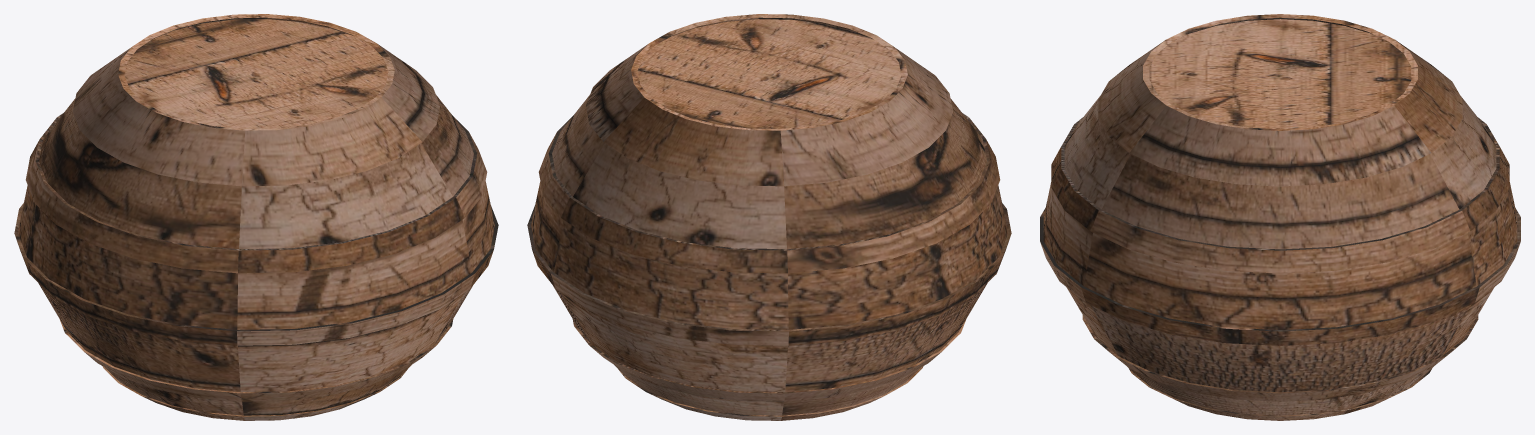
3 renders of one model, left to right at view 1: azimuth 30°, elevation 25°; view 2: azimuth 150°, elevation 25°; view 3: azimuth 270°, elevation 25°, orthographic.
Visible parts, largest first — view 1: pCylinder1; view 2: pCylinder1; view 3: pCylinder1.
Boxes of the visible parts, <box> form: pCylinder1: <box>14,14,498,420</box>; pCylinder1: <box>527,14,1011,420</box>; pCylinder1: <box>1040,14,1520,420</box>.
Size of the model in its own units: 7.1 by 4.69 by 7.05.
Materials: 1 (1 with a texture image).
